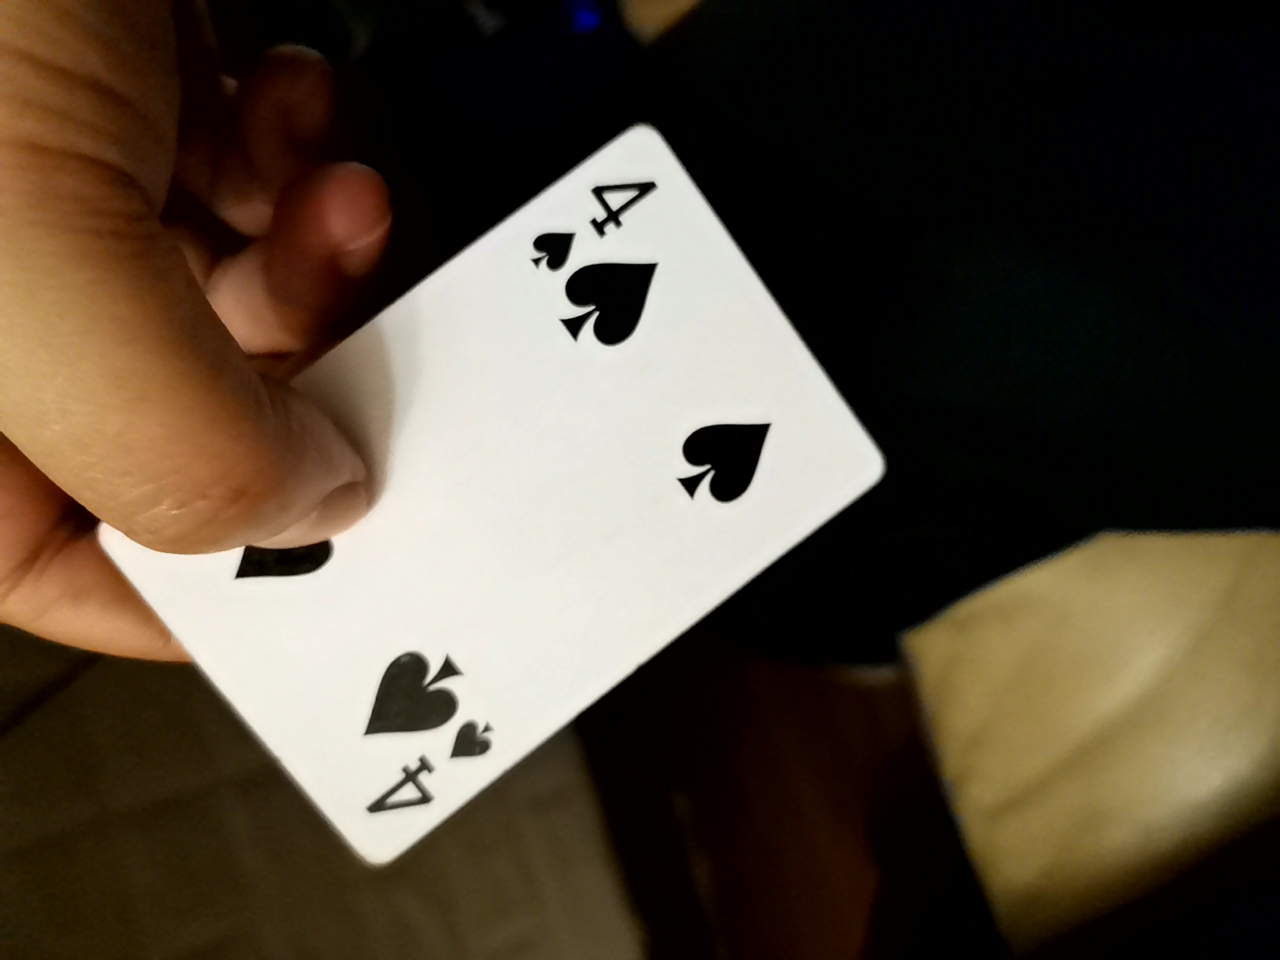ht 4: (93, 127, 896, 884)
